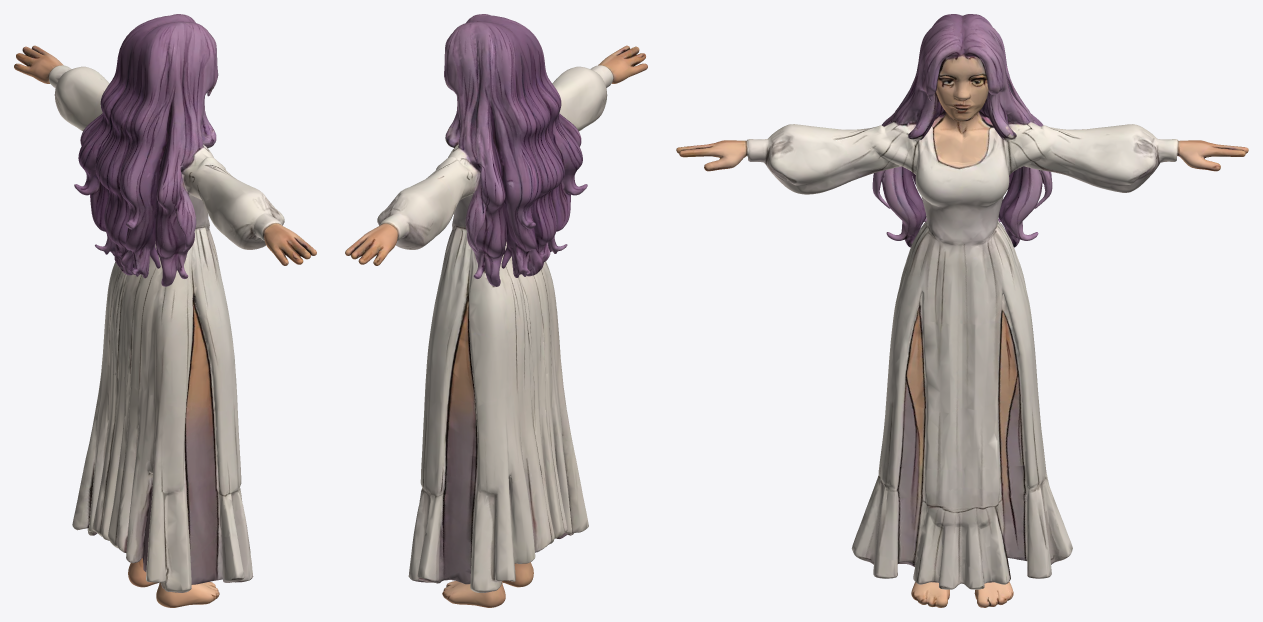
File: female-decimated-v2.glb
The picture shows the model from 3 angles, left to right: view 1: azimuth 30°, elevation 25°; view 2: azimuth 150°, elevation 25°; view 3: azimuth 270°, elevation 25°; orthographic projection.
Parts seen in each view (by area): view 1: tripo_node_bc823922-a818-47de-bd45-c75552e11e0f; view 2: tripo_node_bc823922-a818-47de-bd45-c75552e11e0f; view 3: tripo_node_bc823922-a818-47de-bd45-c75552e11e0f.
Part boxes in pixels (x1=…): tripo_node_bc823922-a818-47de-bd45-c75552e11e0f: x1=14, y1=14, x2=316, y2=607; tripo_node_bc823922-a818-47de-bd45-c75552e11e0f: x1=345, y1=14, x2=647, y2=607; tripo_node_bc823922-a818-47de-bd45-c75552e11e0f: x1=676, y1=14, x2=1248, y2=607.
Bounding box in the file's own units: 0.218 × 0.9999 × 0.9034.
Materials: 1 (1 with a texture image).
